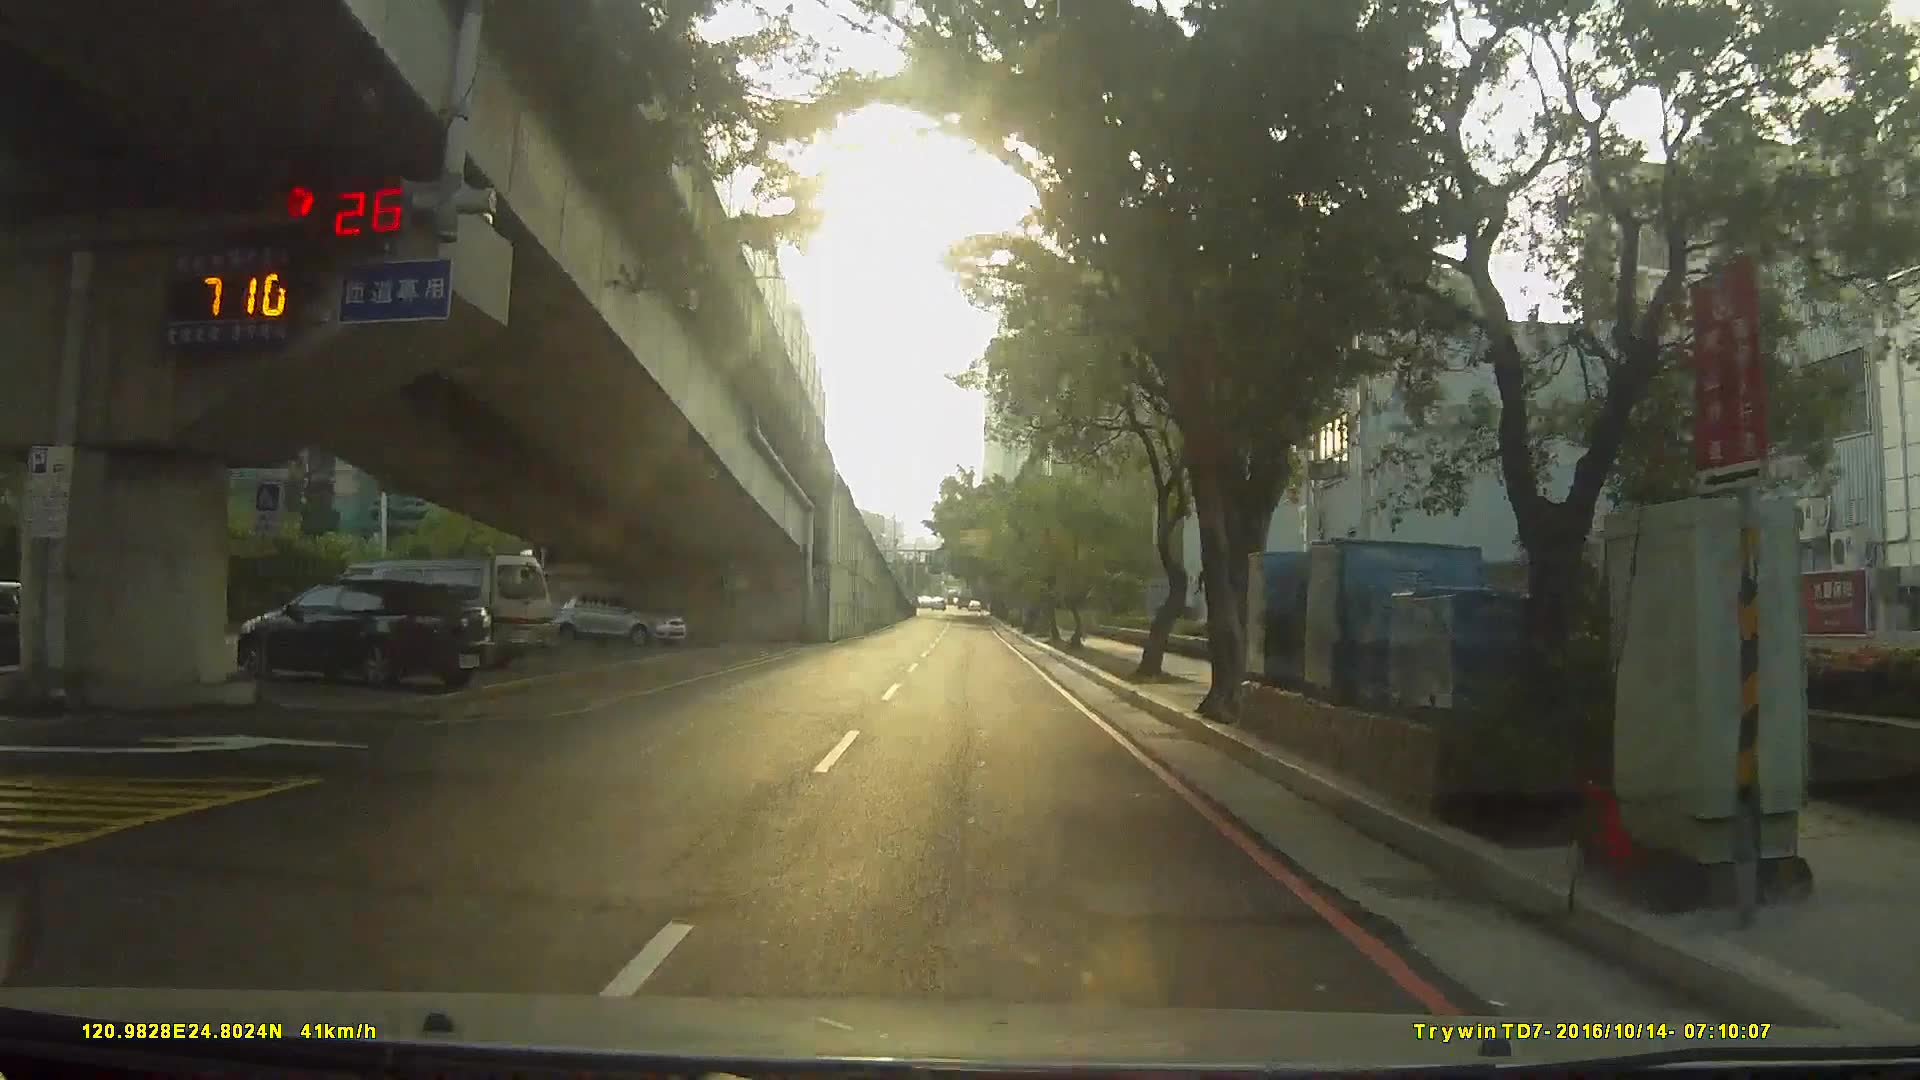vehicle: (223, 574, 505, 695), (305, 551, 556, 683), (553, 588, 687, 649), (1, 579, 51, 676)
